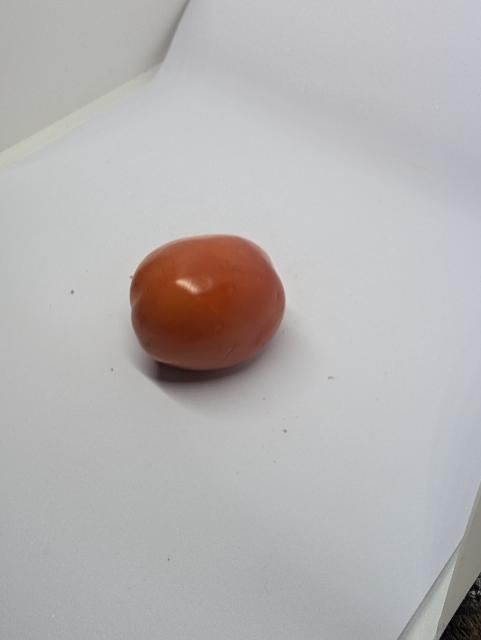red: (125, 230, 293, 376)
